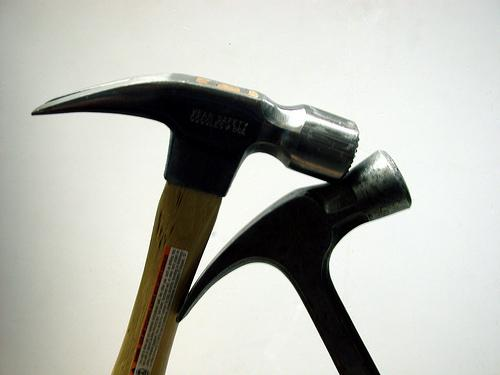hammer: (28, 70, 360, 374), (173, 147, 412, 374)
